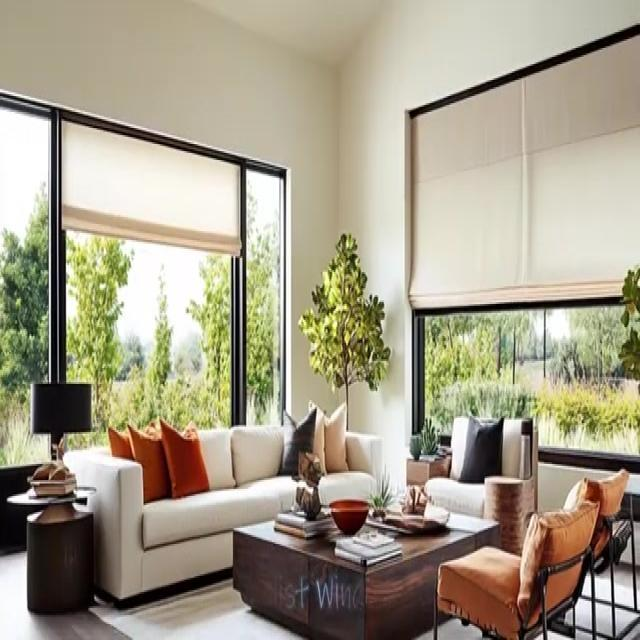obstacle: (62, 416, 383, 608), (232, 499, 500, 638), (436, 506, 598, 639), (423, 414, 538, 556)
